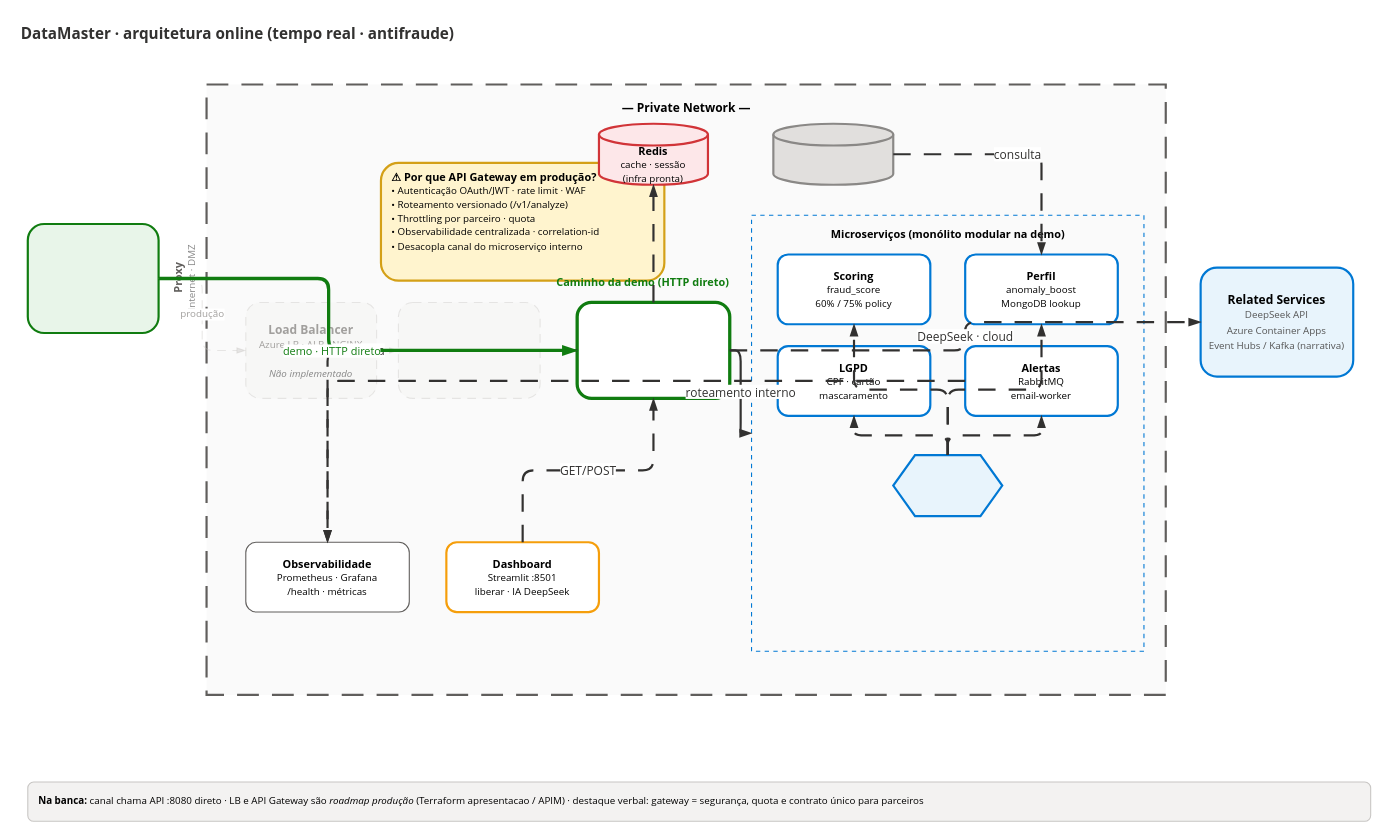
This 1397x840 diagram has some shape labels left out. Each missing label, with the box of its shape:
API Gateway APIM · AWS API GW Kong · Azure Front Door Não implementado: (397, 301, 540, 398)
API Java Spring Boot · :8080 POST /analyze · /batch: (575, 300, 731, 399)
Clientes / Canais Console :3333 · Dashboard :8501 Swagger · curl · mobile/web: (26, 222, 159, 334)
Internal Routing: (892, 453, 1003, 517)
MongoDB user_profiles ← batch: (772, 122, 894, 185)
